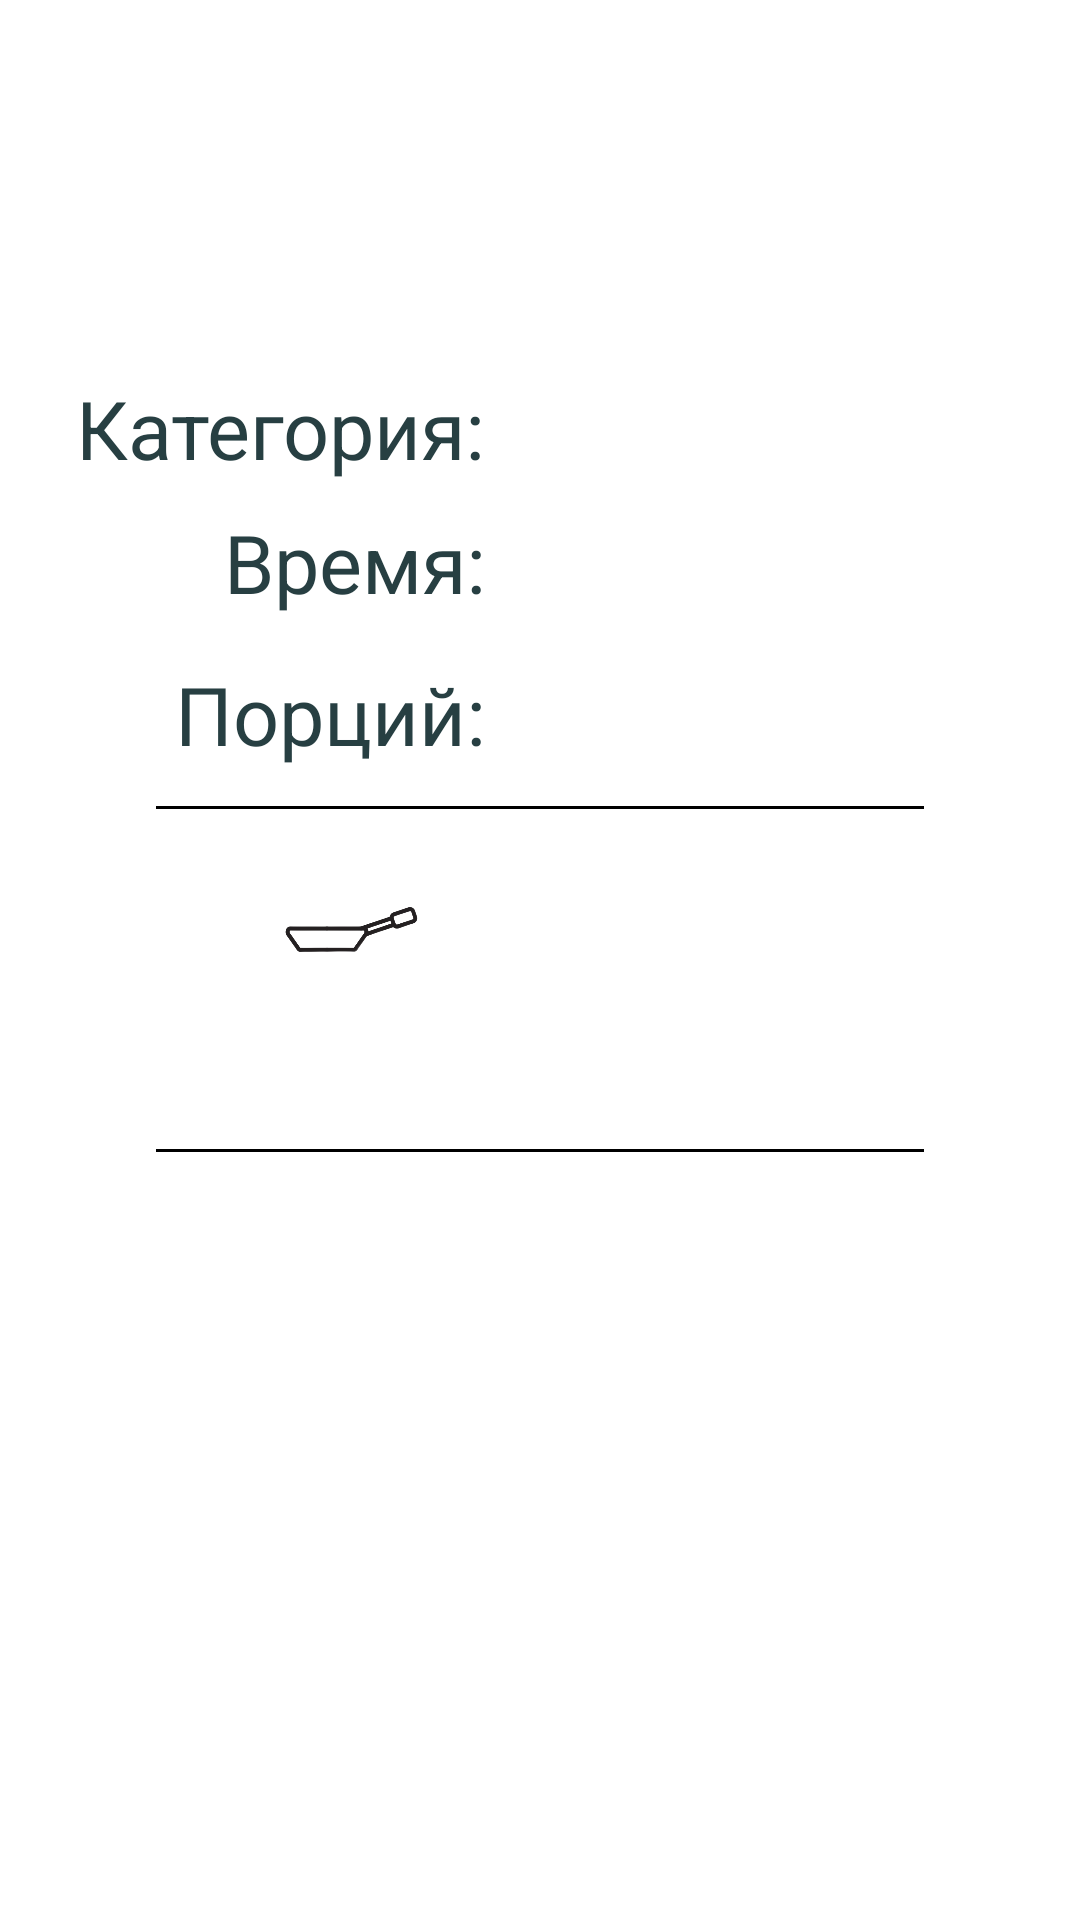

Named icons in this screenshot (1080px×1920px) and their centers, point (x, y):
is fried: point (351, 929)
